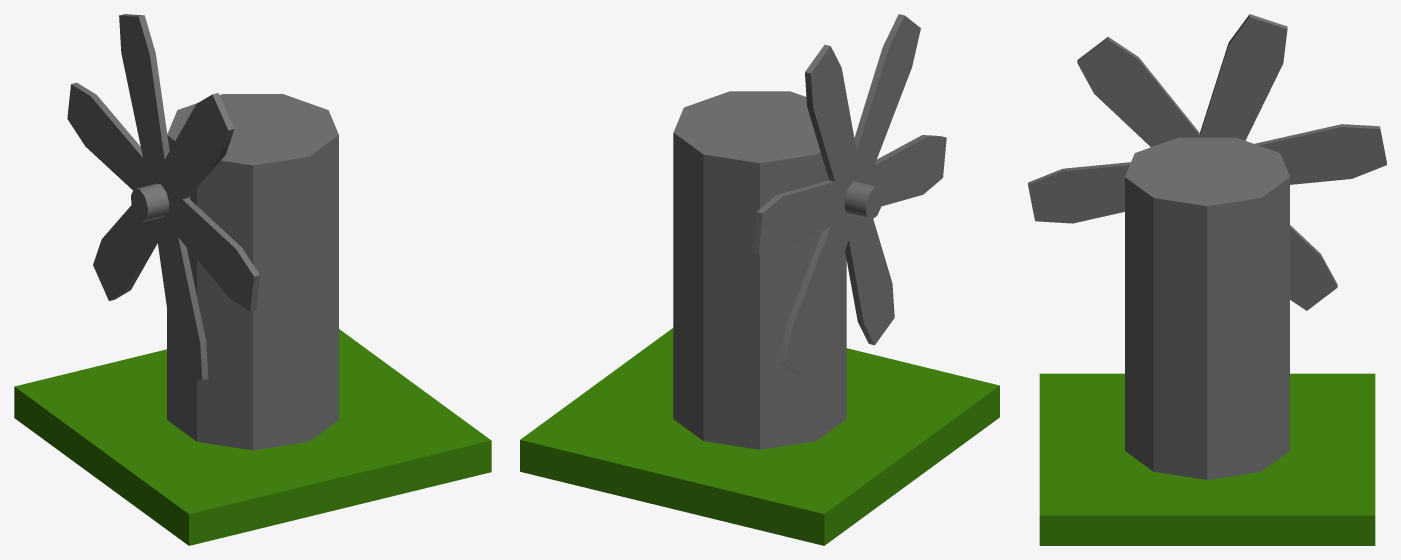
Rendered from Farm1.obj.
The picture shows the model from 3 angles, left to right: view 1: azimuth 30°, elevation 25°; view 2: azimuth 150°, elevation 25°; view 3: azimuth 270°, elevation 25°; orthographic projection. The views are drawn at different scales.
Visible parts, largest first — view 1: Tilebase111, Cylinder046, Box719, Box717, Box716, Box718, Box720, Box715, Cylinder047; view 2: Tilebase111, Cylinder046, Box719, Box715, Box718, Box720, Box716, Box717, Cylinder047; view 3: Cylinder046, Tilebase111, Box719, Box718, Box720, Box717, Box715.
Boxes of the visible parts, box(x1,y1,x2,y2) form: Tilebase111: box(14, 329, 491, 545); Cylinder046: box(167, 94, 338, 450); Box719: box(119, 14, 169, 186); Box717: box(164, 186, 259, 311); Box716: box(157, 211, 208, 379); Box718: box(157, 93, 234, 199); Box720: box(67, 82, 156, 189); Box715: box(93, 205, 164, 300); Cylinder047: box(131, 183, 190, 221); Tilebase111: box(520, 328, 999, 545); Cylinder046: box(673, 91, 846, 449); Box719: box(805, 44, 860, 200); Box715: box(778, 200, 848, 375); Box718: box(854, 14, 920, 183); Box720: box(753, 180, 845, 254); Box716: box(845, 214, 894, 345); Box717: box(859, 135, 946, 206); Cylinder047: box(844, 181, 882, 219); Cylinder046: box(1125, 137, 1289, 479); Tilebase111: box(1039, 373, 1375, 545); Box719: box(1199, 14, 1287, 140); Box718: box(1077, 37, 1200, 147); Box720: box(1254, 124, 1386, 184); Box717: box(1028, 162, 1130, 223); Box715: box(1290, 225, 1337, 310).
Bounding box in the file's own units: 10 × 13.73 × 10.69.
